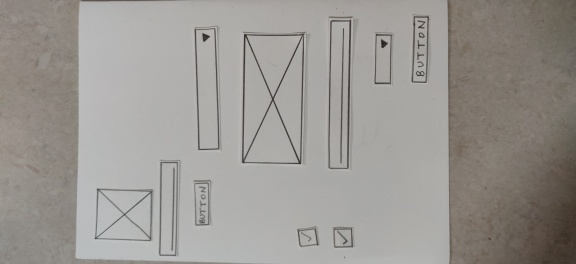button: (410, 15, 431, 85), (192, 177, 213, 229)
checkbox: (330, 224, 356, 250), (296, 225, 319, 249)
dropdown: (191, 24, 222, 152), (372, 31, 394, 90)
img: (239, 30, 306, 166), (93, 186, 155, 244)
text: (327, 15, 354, 170), (157, 157, 180, 258)
